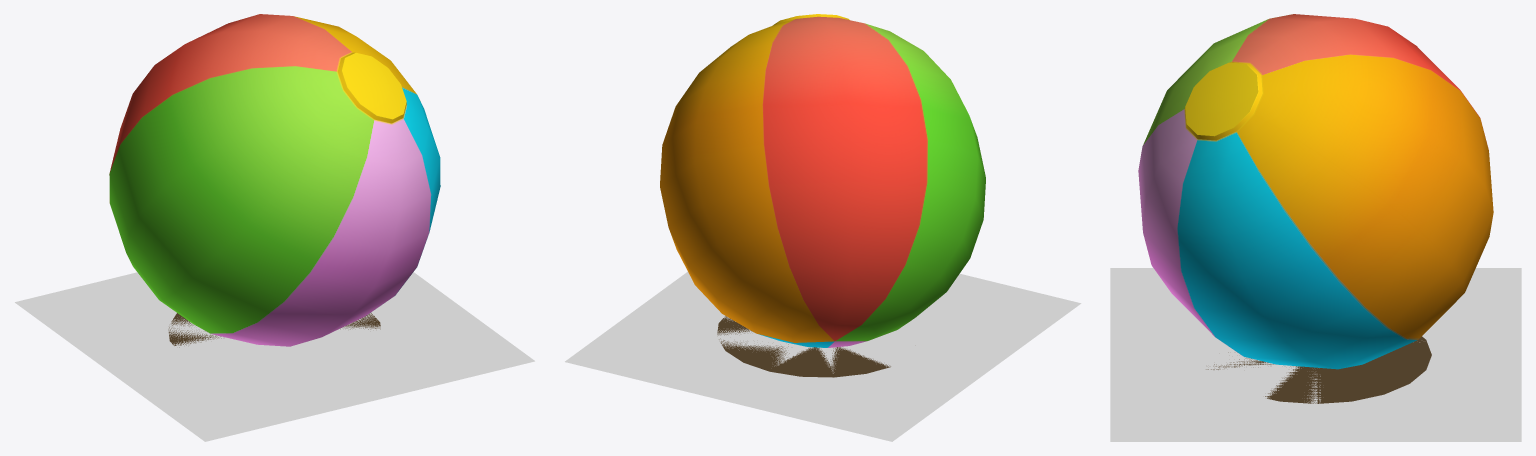
File: Decor_BeachBall.fbx
The picture shows the model from 3 angles, left to right: view 1: azimuth 30°, elevation 25°; view 2: azimuth 150°, elevation 25°; view 3: azimuth 270°, elevation 25°; orthographic projection. The views are drawn at different scales.
Parts seen in each view (by area): view 1: BeachBall.001, BeachBall_Grid; view 2: BeachBall.001, BeachBall_Grid; view 3: BeachBall.001, BeachBall_Grid.
Part boxes in pixels (<box>): BeachBall.001: <box>109,14,440,347</box>; BeachBall_Grid: <box>15,272,534,441</box>; BeachBall.001: <box>660,14,985,377</box>; BeachBall_Grid: <box>565,271,1081,441</box>; BeachBall.001: <box>1138,14,1493,403</box>; BeachBall_Grid: <box>1110,268,1521,441</box>.
Size of the model in its own units: 1 by 0.874 by 1.
